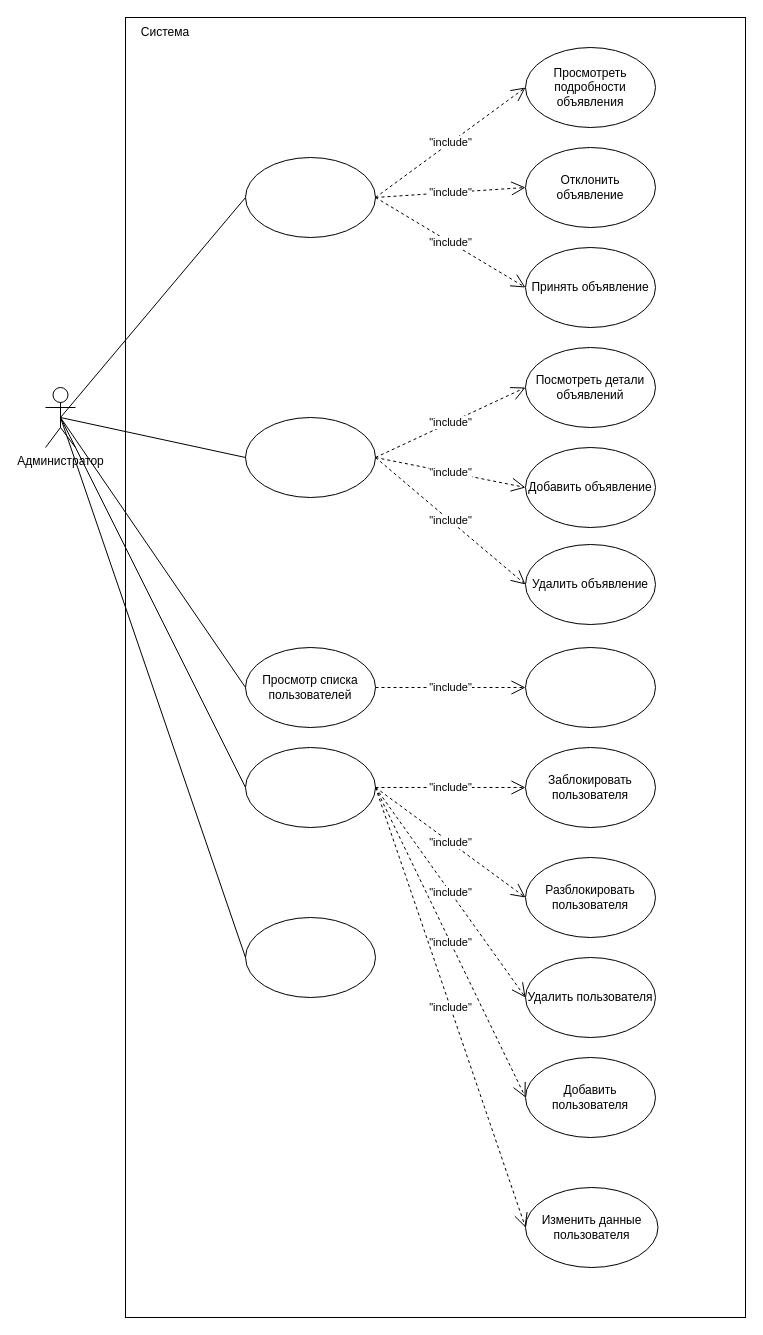
The diagram is 763 pixels wide and 1335 high, and some of its shapes have lost their labels. The shapes that lost their labels are listed below. From the top down, each one's centre as x and y in pixels, then its label:
the point at 310,197: Модерация объявлений
the point at 310,457: Просмотр всех объявлений
the point at 590,687: Просмотреть детали профиля пользователя
the point at 310,787: Управление пользователями
the point at 310,957: Профиль и его настройки
